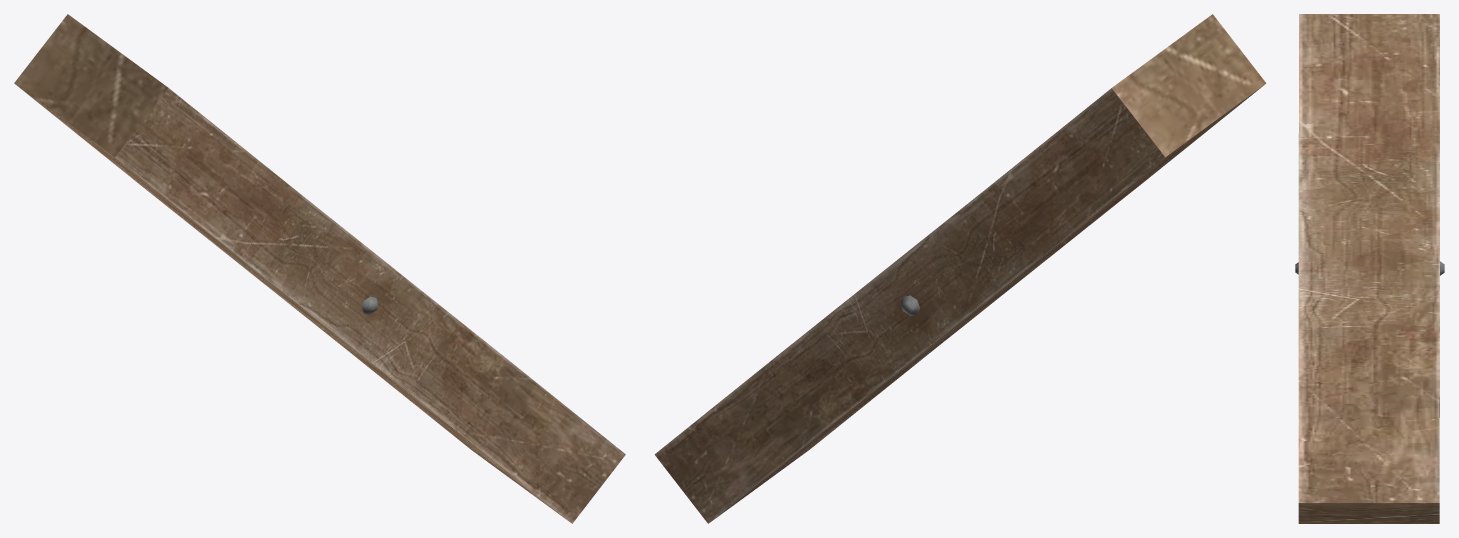
3 renders of one model, left to right at view 1: azimuth 30°, elevation 25°; view 2: azimuth 150°, elevation 25°; view 3: azimuth 270°, elevation 25°, orthographic. The views are drawn at different scales.
Visible parts, largest first — view 1: SM_BB_T3_Beam_Thin_Med_Diagonal_LOD0; view 2: SM_BB_T3_Beam_Thin_Med_Diagonal_LOD0; view 3: SM_BB_T3_Beam_Thin_Med_Diagonal_LOD0.
Boxes of the visible parts, left/top/right/bottom form: SM_BB_T3_Beam_Thin_Med_Diagonal_LOD0: left=14, top=14, right=625, bottom=523; SM_BB_T3_Beam_Thin_Med_Diagonal_LOD0: left=654, top=14, right=1266, bottom=523; SM_BB_T3_Beam_Thin_Med_Diagonal_LOD0: left=1295, top=14, right=1444, bottom=523.
Size of the model in its own units: 1.68 by 1.68 by 0.6099.
Materials: 1 (1 with a texture image).
